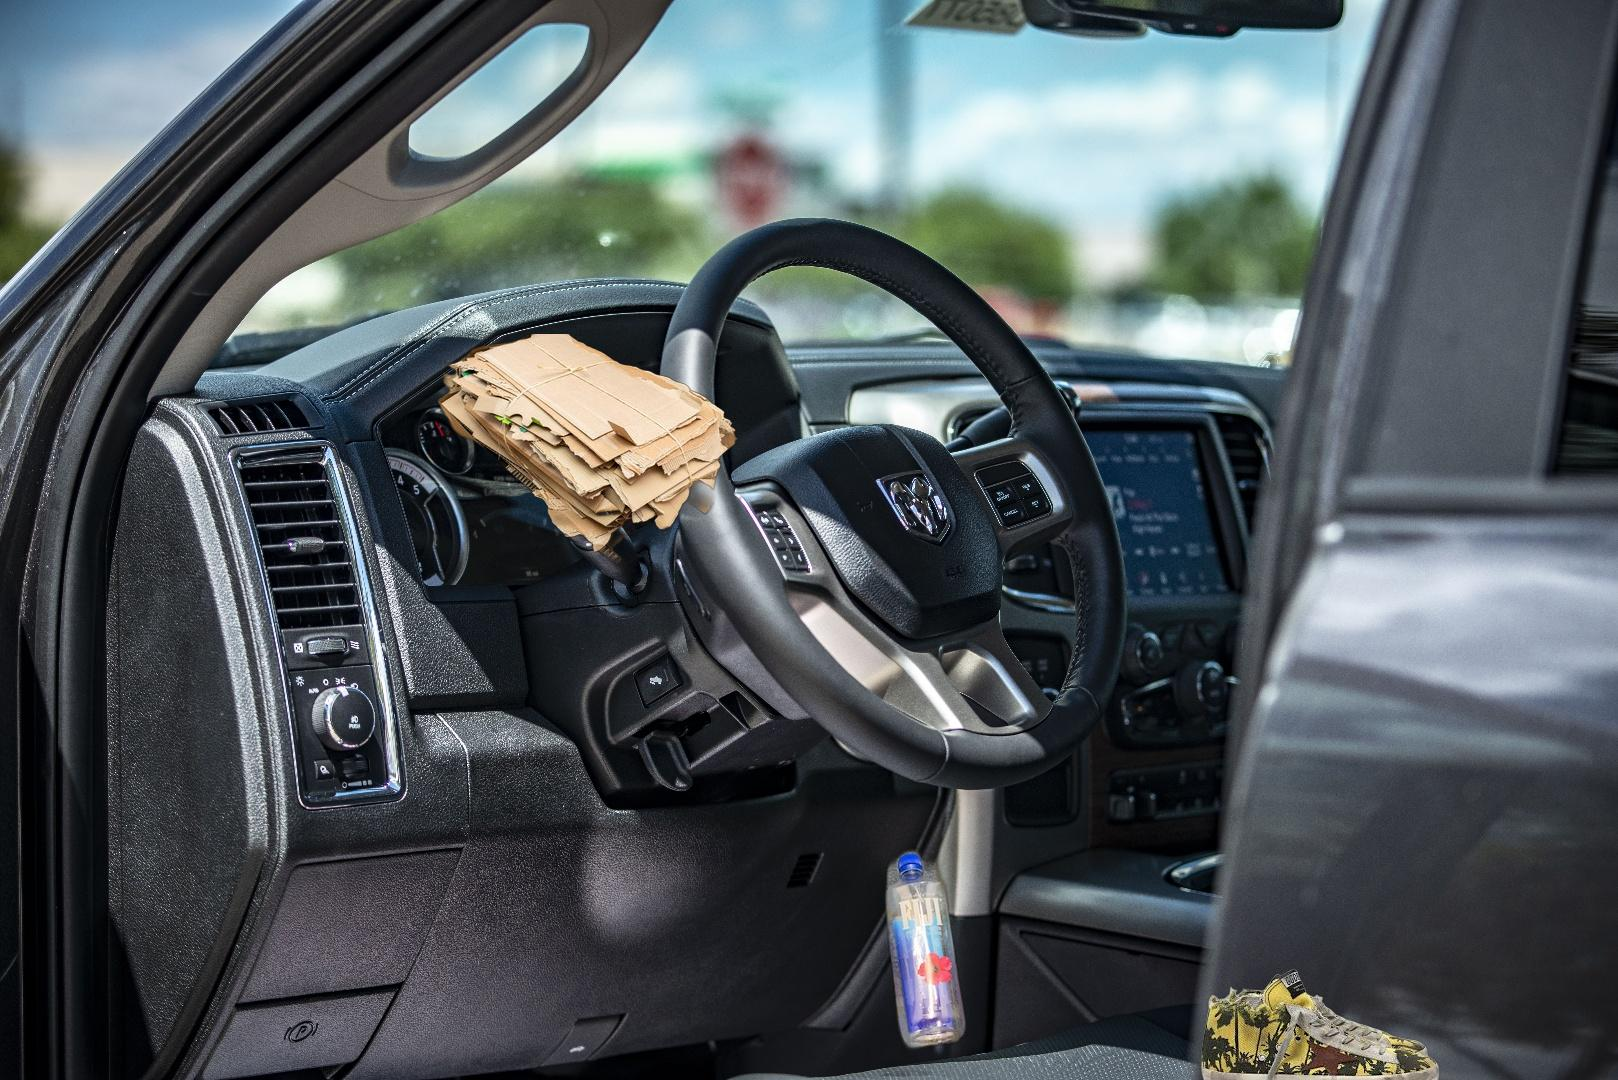plastic-bottles: (879, 843, 1011, 1080)
shoes: (1198, 965, 1442, 1080)
trashbox-cardboard: (420, 334, 811, 614)
